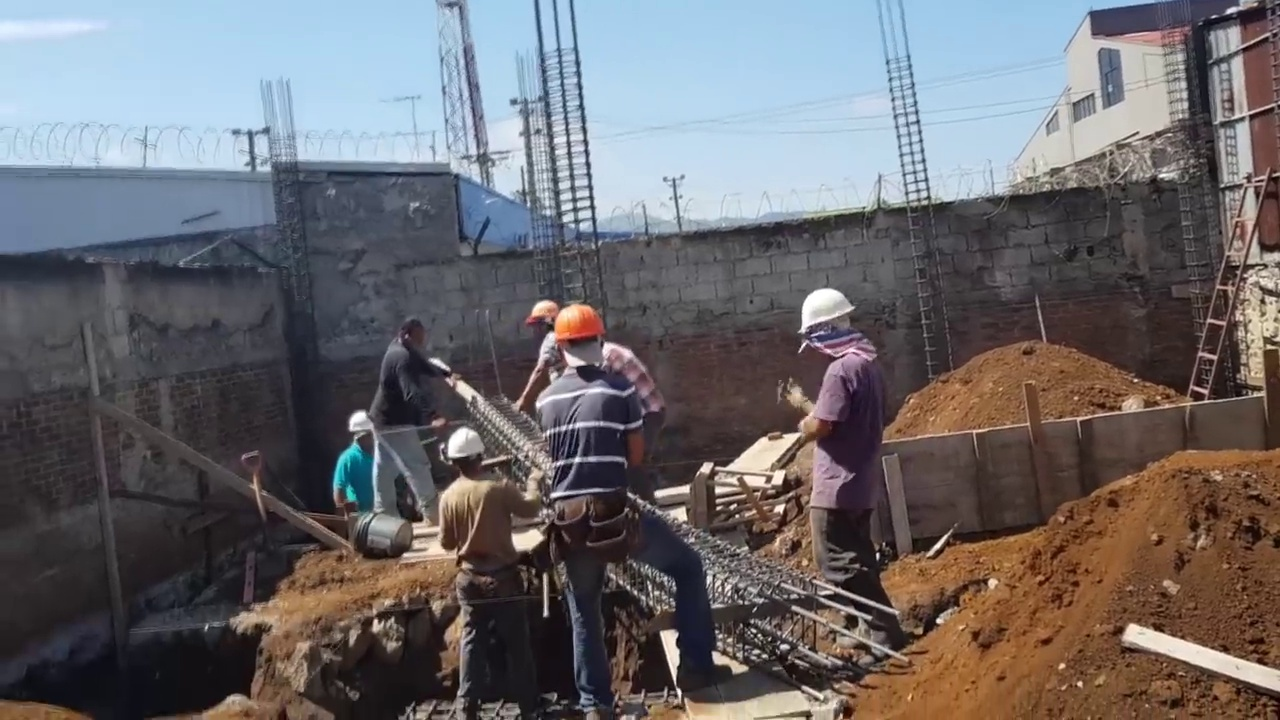helmet: (797, 289, 860, 338), (553, 303, 605, 343), (446, 429, 484, 461), (521, 299, 558, 331), (346, 410, 372, 439)
helmet-off: (396, 320, 427, 358)
helmet-on: (797, 283, 860, 358), (553, 303, 605, 379), (446, 429, 484, 482), (521, 299, 558, 344), (347, 410, 373, 455)
person: (539, 306, 731, 701), (793, 288, 893, 662), (438, 429, 550, 720), (1196, 141, 1272, 408), (371, 320, 462, 528), (576, 330, 666, 450), (508, 296, 565, 410), (329, 413, 375, 520)
